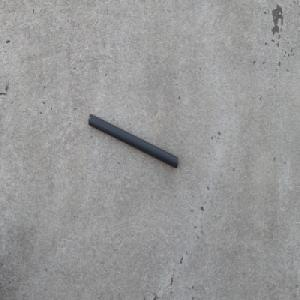LuggagePart: (87, 112, 179, 170)
